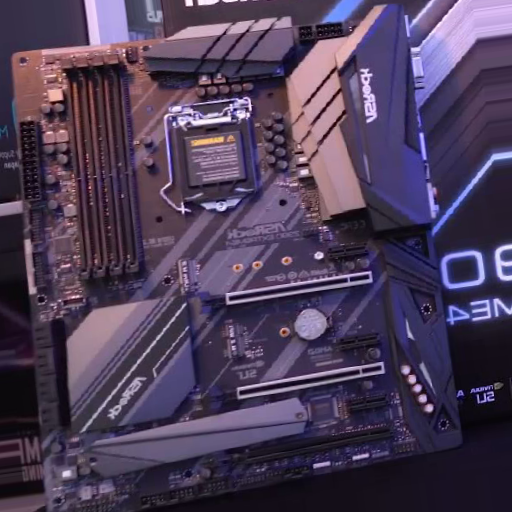CPU: (168, 112, 264, 216)
GPU: (208, 360, 387, 409), (199, 270, 376, 317)
MOTHERBOARD: (12, 13, 468, 501)
RAM: (60, 53, 148, 284)
SSD: (221, 318, 251, 361), (175, 257, 204, 297)
